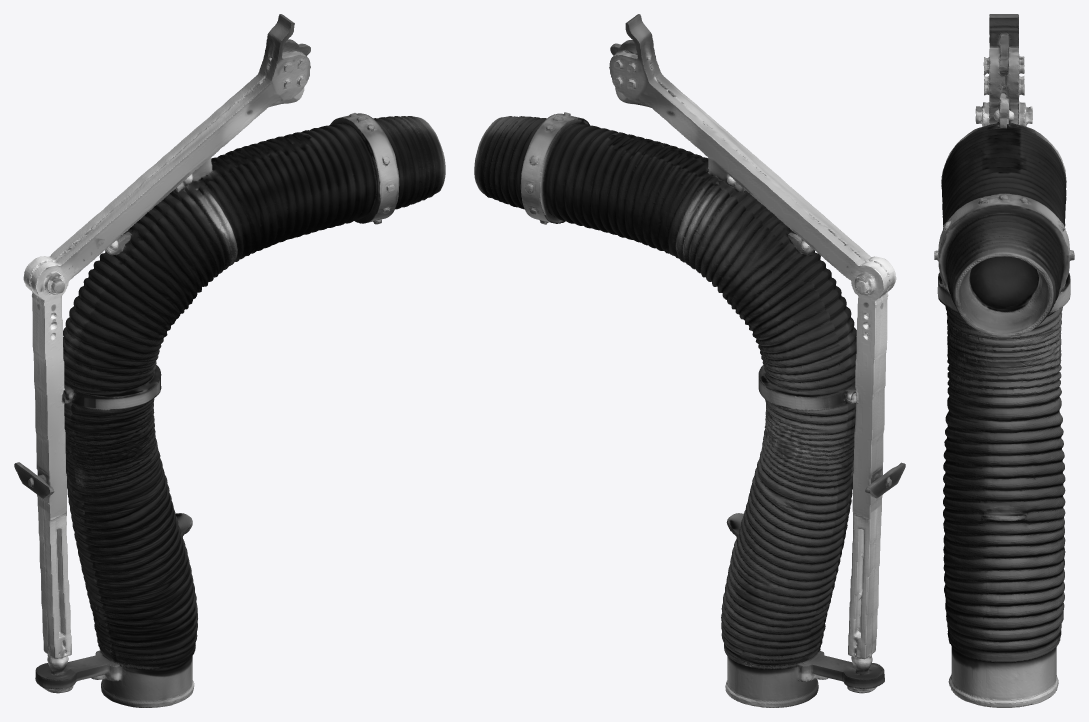
Rendered from with_duct.glb.
The picture shows the model from 3 angles, left to right: view 1: azimuth 30°, elevation 25°; view 2: azimuth 150°, elevation 25°; view 3: azimuth 270°, elevation 25°; orthographic projection. The views are drawn at different scales.
Visible parts, largest first — view 1: tmp_23udery.obj; view 2: tmp_23udery.obj; view 3: tmp_23udery.obj.
Boxes of the visible parts, x1,y1,x2,y2 form: tmp_23udery.obj: (14, 14, 445, 707); tmp_23udery.obj: (474, 14, 905, 707); tmp_23udery.obj: (934, 14, 1074, 707).
Bounding box in the file's own units: 1.24 × 1.91 × 0.3238.
1 material, 1 textured.
